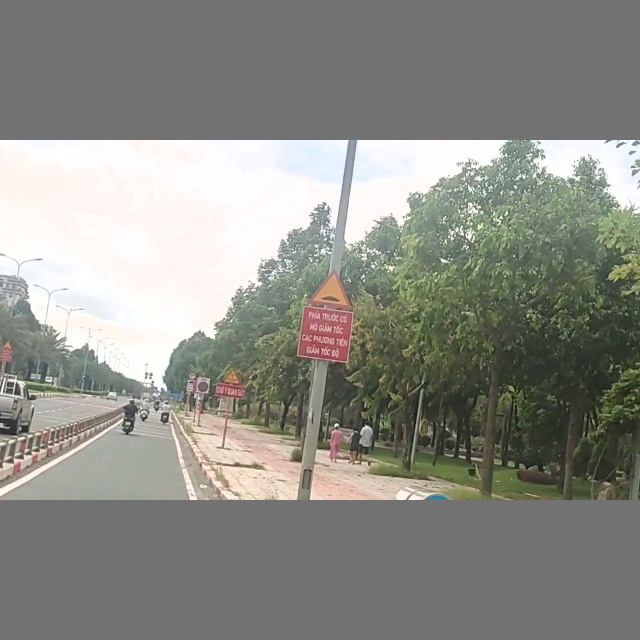W.221b: (307, 268, 356, 309)
W.245a: (223, 368, 243, 385)
